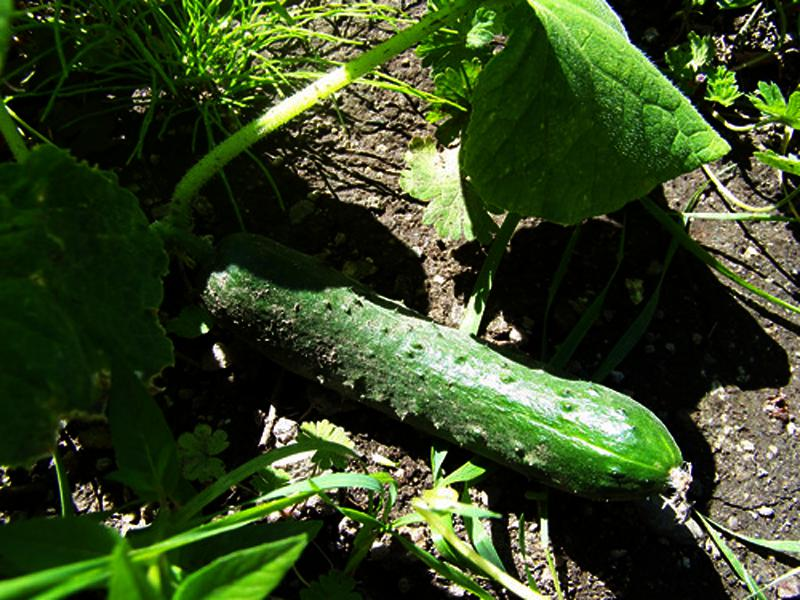Cucumber: (193, 230, 690, 502)
